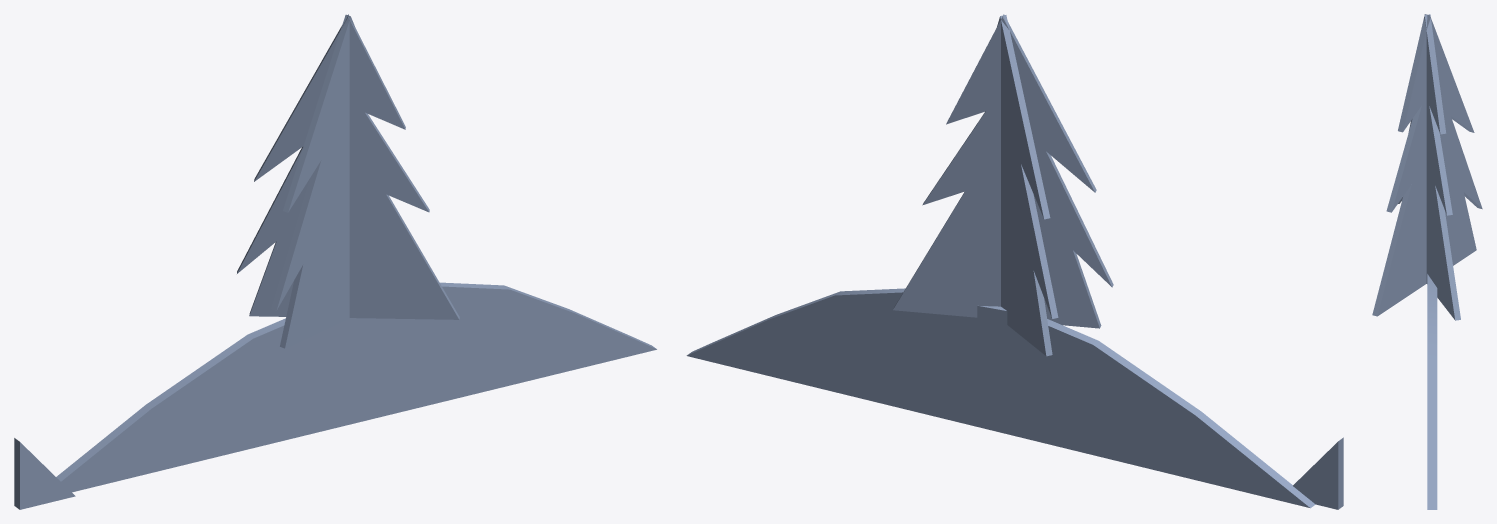
The model's file is frame_0176.glb.
3 views of the same model, side by side, from view 1: azimuth 30°, elevation 25°; view 2: azimuth 150°, elevation 25°; view 3: azimuth 270°, elevation 25° (orthographic). The views are drawn at different scales.
Parts seen in each view (by area): view 1: export_trees_001.002; view 2: export_trees_001.002; view 3: export_trees_001.002.
Boxes of the visible parts, x1,y1,x2,y2 form: export_trees_001.002: [14, 14, 656, 509]; export_trees_001.002: [686, 14, 1343, 509]; export_trees_001.002: [1372, 14, 1482, 509].
Size of the model in its own units: 0.2783 by 0.1695 by 0.0469.
